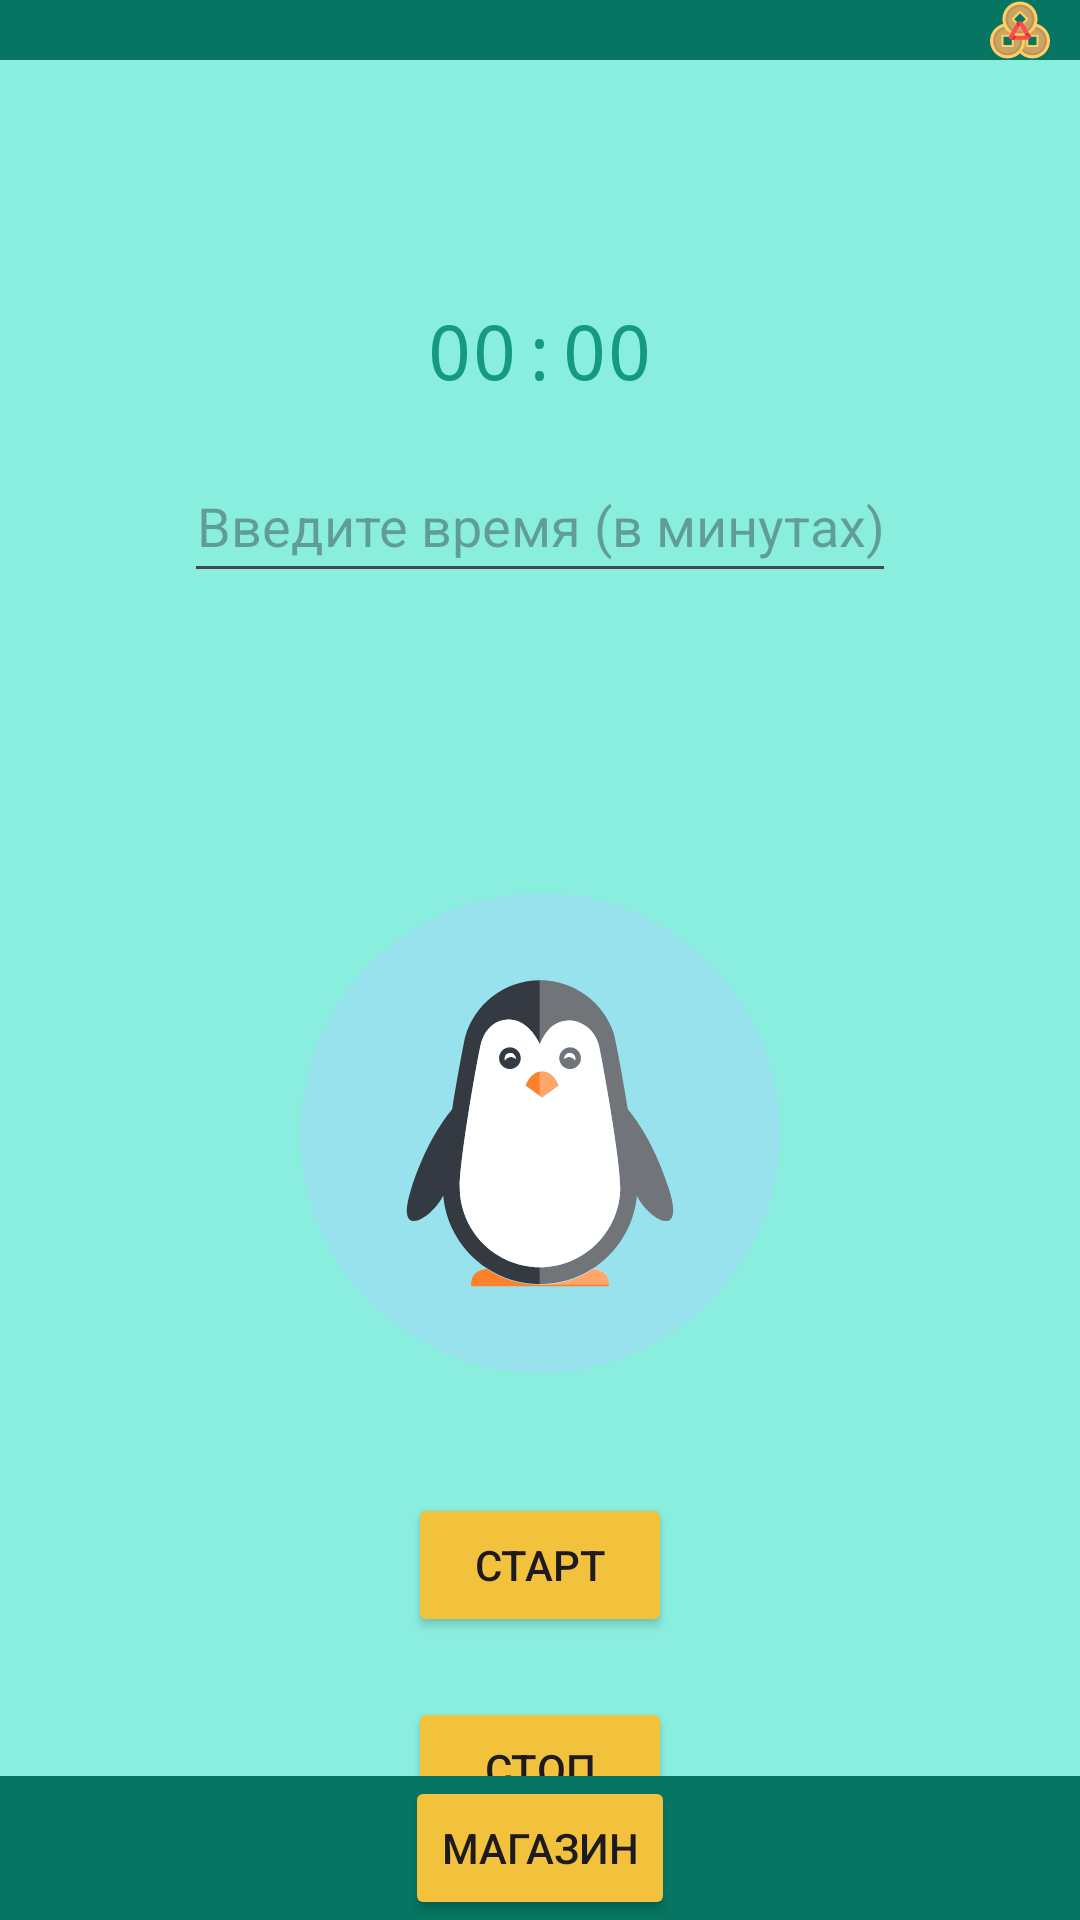

Where to tap for icons on this 1080*1920 app screen, as point (x, y):
coin chinese: point (1020, 30)
penguin: point (540, 1133)
